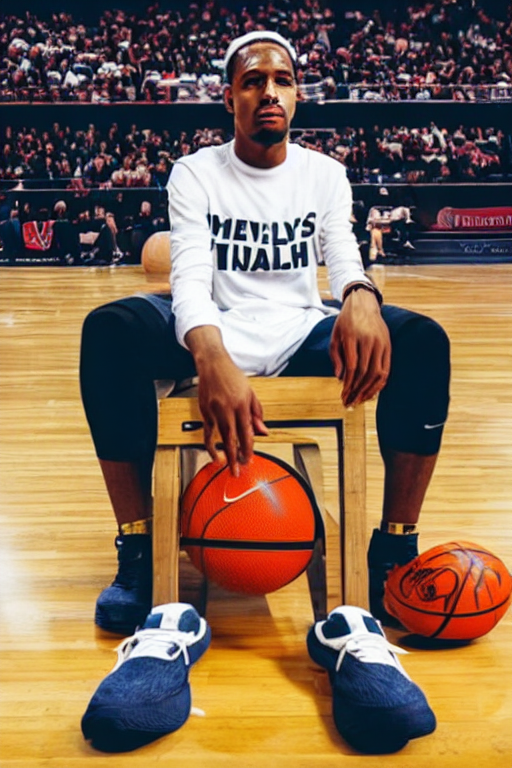sit: (90, 40, 476, 699)
